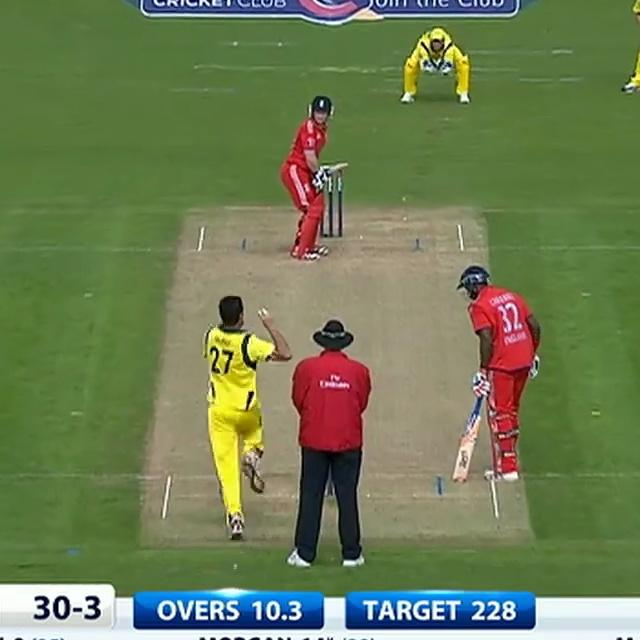umpire: (276, 310, 385, 572)
